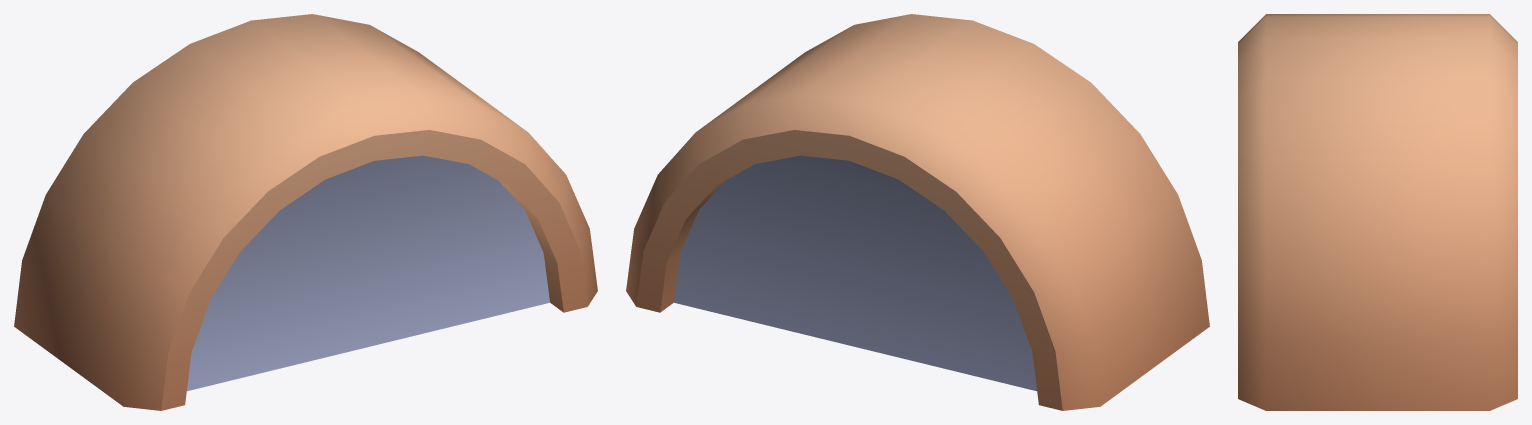
The model's file is block-grass-curve.glb.
3 views of the same model, side by side, from view 1: azimuth 30°, elevation 25°; view 2: azimuth 150°, elevation 25°; view 3: azimuth 270°, elevation 25° (orthographic). The views are drawn at different scales.
Visible parts, largest first — view 1: block-grass-curve; view 2: block-grass-curve; view 3: block-grass-curve.
Boxes of the visible parts, <box> form: block-grass-curve: <box>14,14,597,410</box>; block-grass-curve: <box>626,14,1209,410</box>; block-grass-curve: <box>1238,14,1517,410</box>.
Size of the model in its own units: 2 by 1 by 1.
